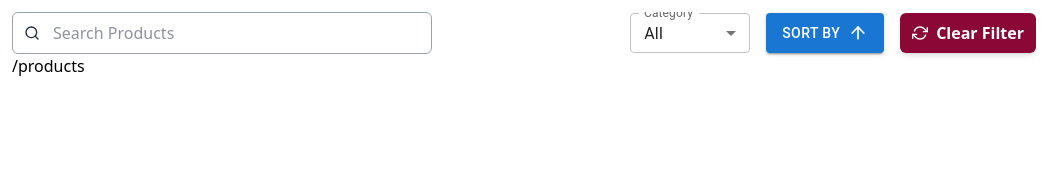
Scenario: Filter › flips the sort order in the URL
The width and height of the screenshot is (1048, 172).
The button is labelled by its tooltip, which tells the current order
Click the button with aria-label "Sorted by price: asc".
click(825, 33)  # box [766,13,884,53]
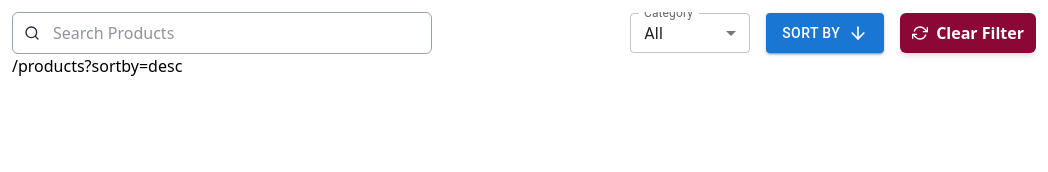
expect the text with test id "url" reads "/products?sortby=desc": met, box [12,55,182,77]
Click the button with aria-label "Sorted by price: desc".
click(825, 33)  # box [766,13,884,53]
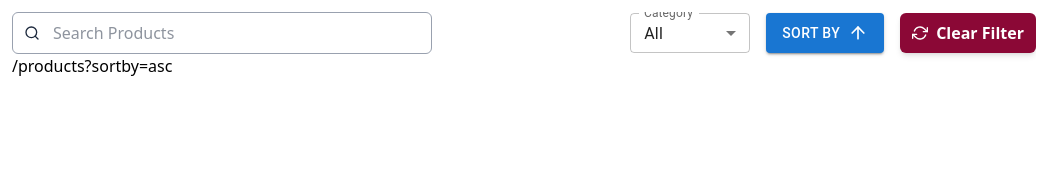
expect the text with test id "url" reads "/products?sortby=asc": met, box [12,55,172,77]
